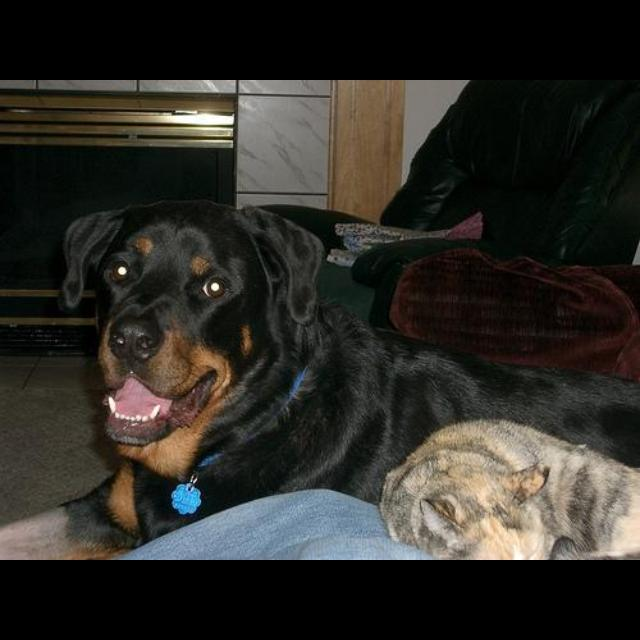rottweiler: (1, 199, 639, 559)
